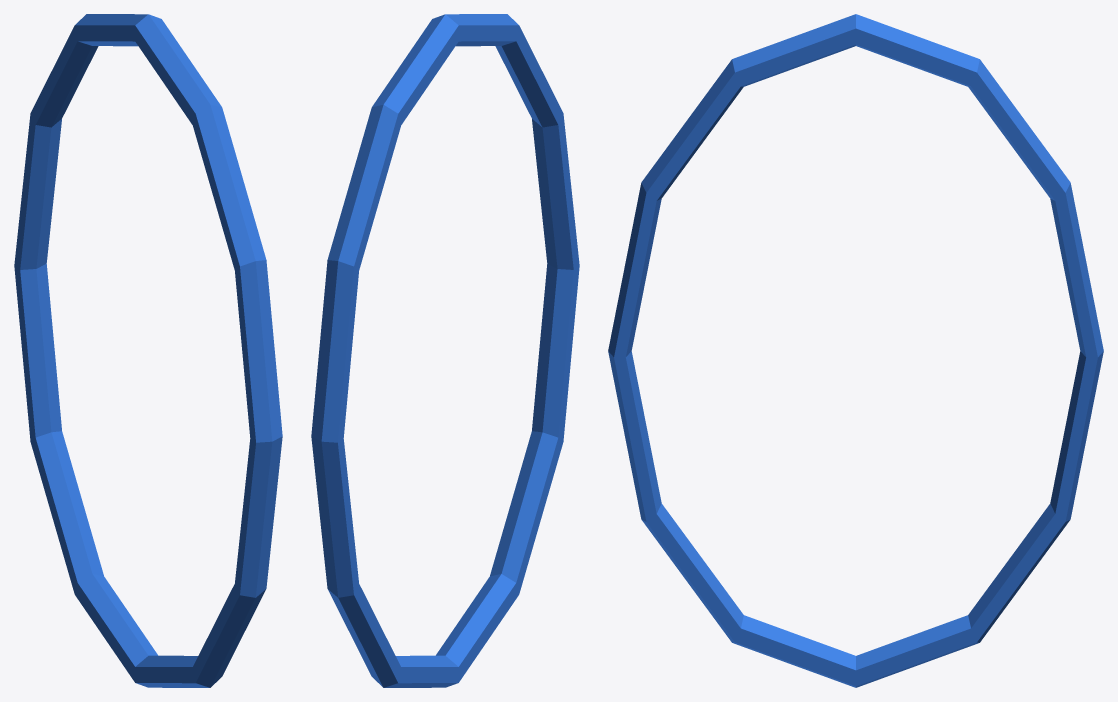
File: bluePortal.glb
3 views of the same model, side by side, from view 1: azimuth 30°, elevation 25°; view 2: azimuth 150°, elevation 25°; view 3: azimuth 270°, elevation 25° (orthographic).
Visible parts, largest first — view 1: Torus; view 2: Torus; view 3: Torus.
Boxes of the visible parts, x1=… form: Torus: x1=14, y1=14, x2=282, y2=687; Torus: x1=311, y1=14, x2=579, y2=687; Torus: x1=608, y1=14, x2=1103, y2=687.
Size of the model in its own units: 0.2598 by 6.3 by 4.2.
Materials: 1 (1 with a texture image).
